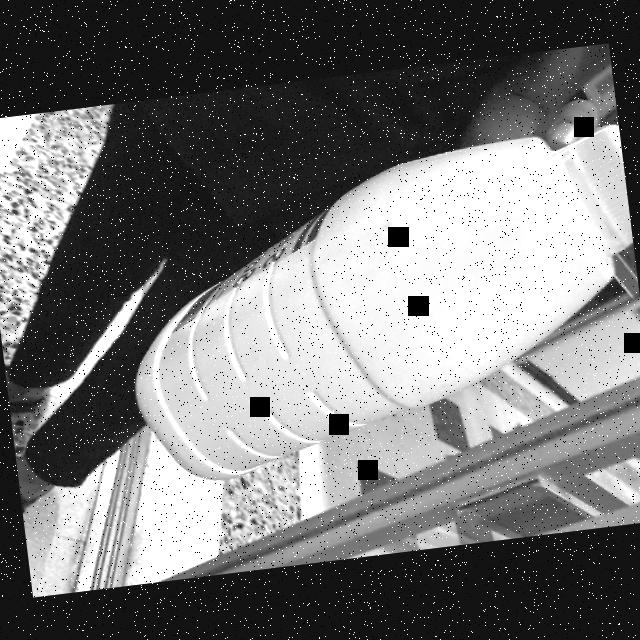chemical_plastic_gallon: (103, 124, 640, 490)
